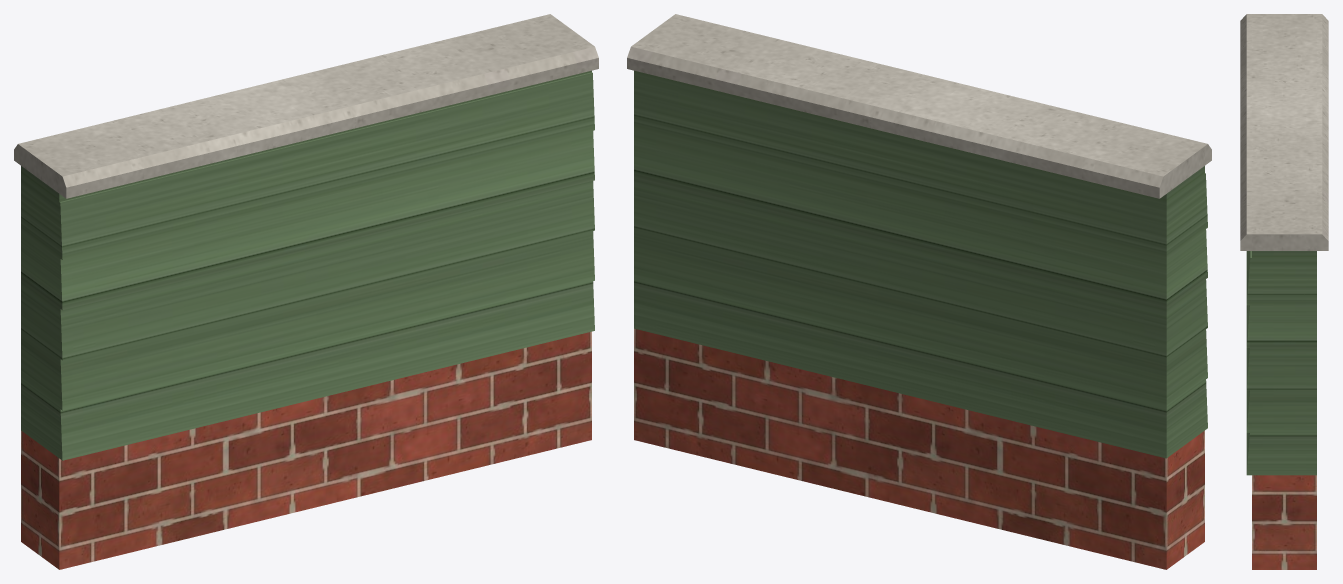
File: porch_front_wall.glb
3 views of the same model, side by side, from view 1: azimuth 30°, elevation 25°; view 2: azimuth 150°, elevation 25°; view 3: azimuth 270°, elevation 25° (orthographic). The views are drawn at different scales.
Visible parts, largest first — view 1: porch_front_wall_siding, porch_front_wall_brick, porch_front_wall_cap; view 2: porch_front_wall_siding, porch_front_wall_brick, porch_front_wall_cap; view 3: porch_front_wall_cap, porch_front_wall_siding, porch_front_wall_brick.
Part boxes in pixels (left/top/right/bottom): porch_front_wall_siding: left=21, top=70, right=594, bottom=460; porch_front_wall_brick: left=21, top=331, right=591, bottom=569; porch_front_wall_cap: left=14, top=14, right=598, bottom=198; porch_front_wall_siding: left=634, top=70, right=1207, bottom=458; porch_front_wall_brick: left=634, top=328, right=1204, bottom=569; porch_front_wall_cap: left=627, top=14, right=1211, bottom=198; porch_front_wall_cap: left=1240, top=14, right=1328, bottom=250; porch_front_wall_siding: left=1246, top=251, right=1316, bottom=475; porch_front_wall_brick: left=1252, top=475, right=1316, bottom=569.
Size of the model in its own units: 2 by 1.42 by 0.34.
3 materials, 3 textured.
